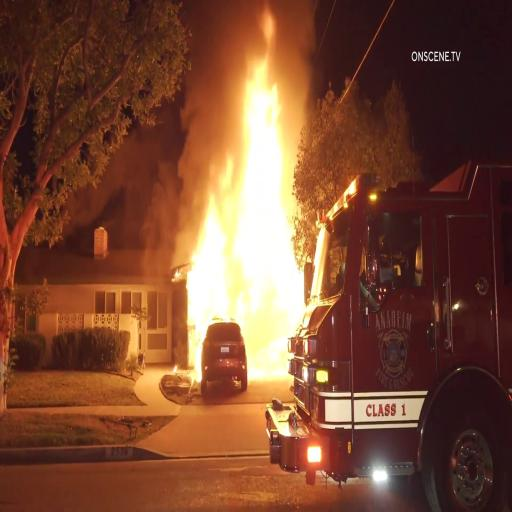fire: (225, 76, 292, 326), (249, 0, 291, 381), (186, 206, 225, 317)
smoke: (133, 130, 179, 259), (190, 6, 244, 71), (186, 91, 220, 191)
